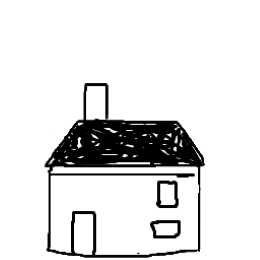bottom_placed_house: (2, 2, 260, 260)
chimney: (70, 73, 119, 133)
door: (65, 205, 105, 260)
open_window: (149, 176, 186, 212), (148, 214, 183, 242)
shaded_roof: (30, 114, 218, 173)
wall: (41, 158, 207, 259)
